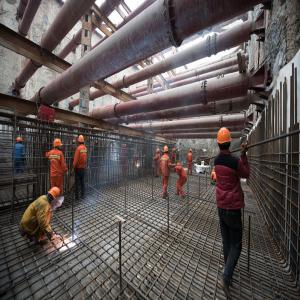red: (218, 128, 233, 152), (49, 185, 63, 206), (54, 138, 62, 151), (79, 136, 85, 146), (18, 137, 24, 145), (165, 146, 169, 155), (173, 165, 178, 172), (158, 149, 161, 154), (190, 149, 193, 154), (174, 149, 176, 153), (179, 150, 181, 154)
